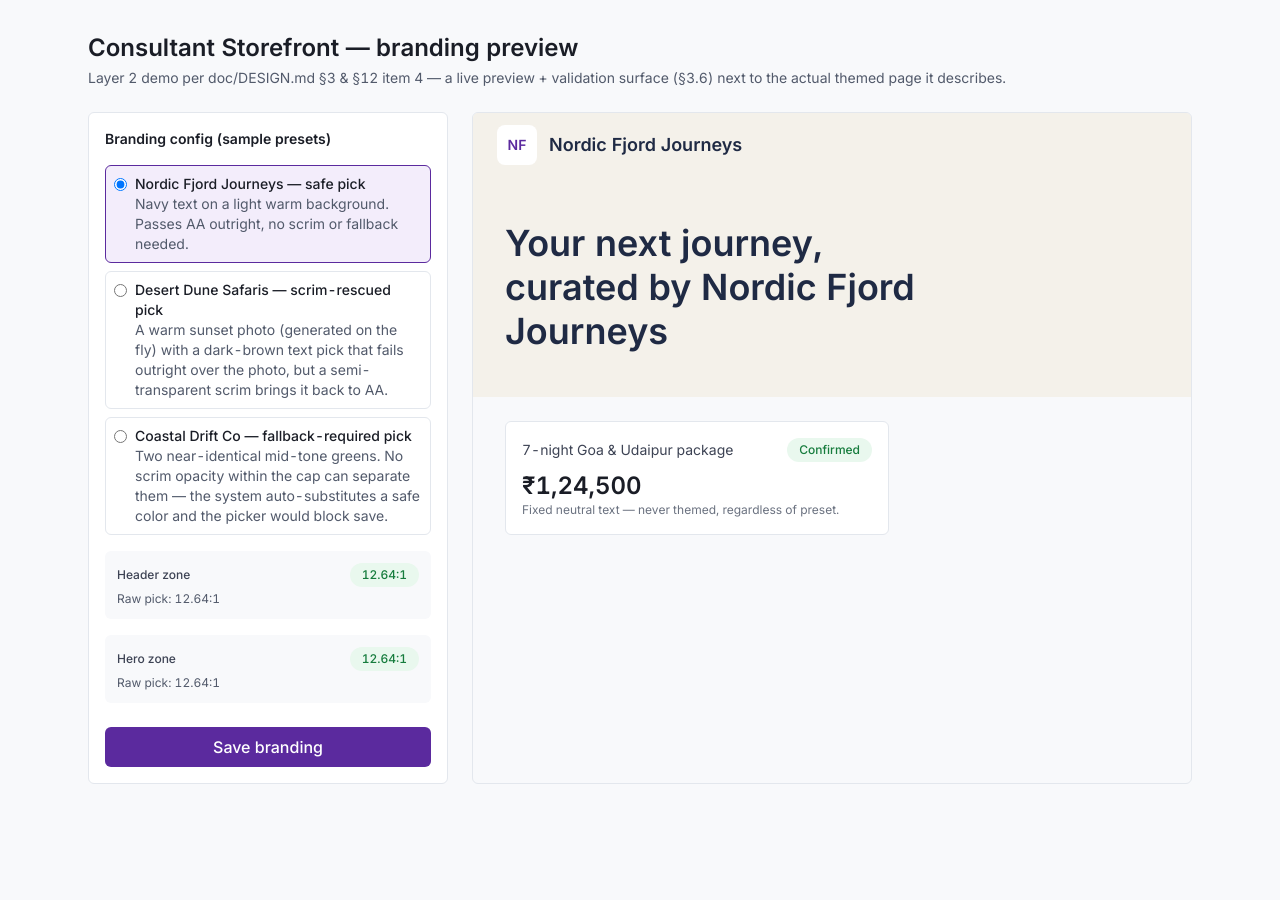
ConsultantStorefront › blocks save and shows the fallback warning for the fallback-required preset
Click the text "Coastal Drift Co — fallback-required pick". click: (278, 436)
box: [135,426,422,446]
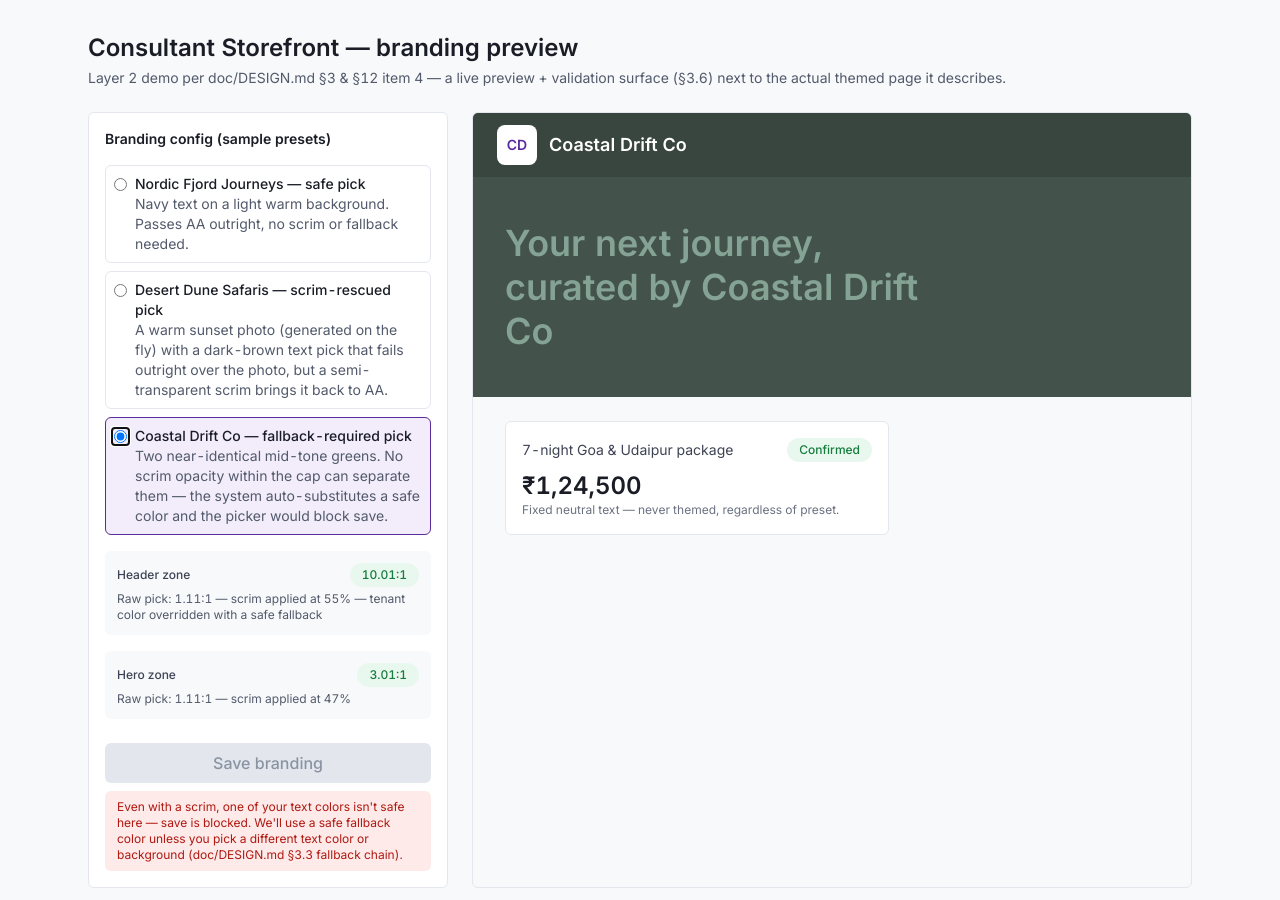
Expected: the button "Save branding" is disabled, [105,743,431,783]
Expected: the message shows "save is blocked", [117,799,404,862]
